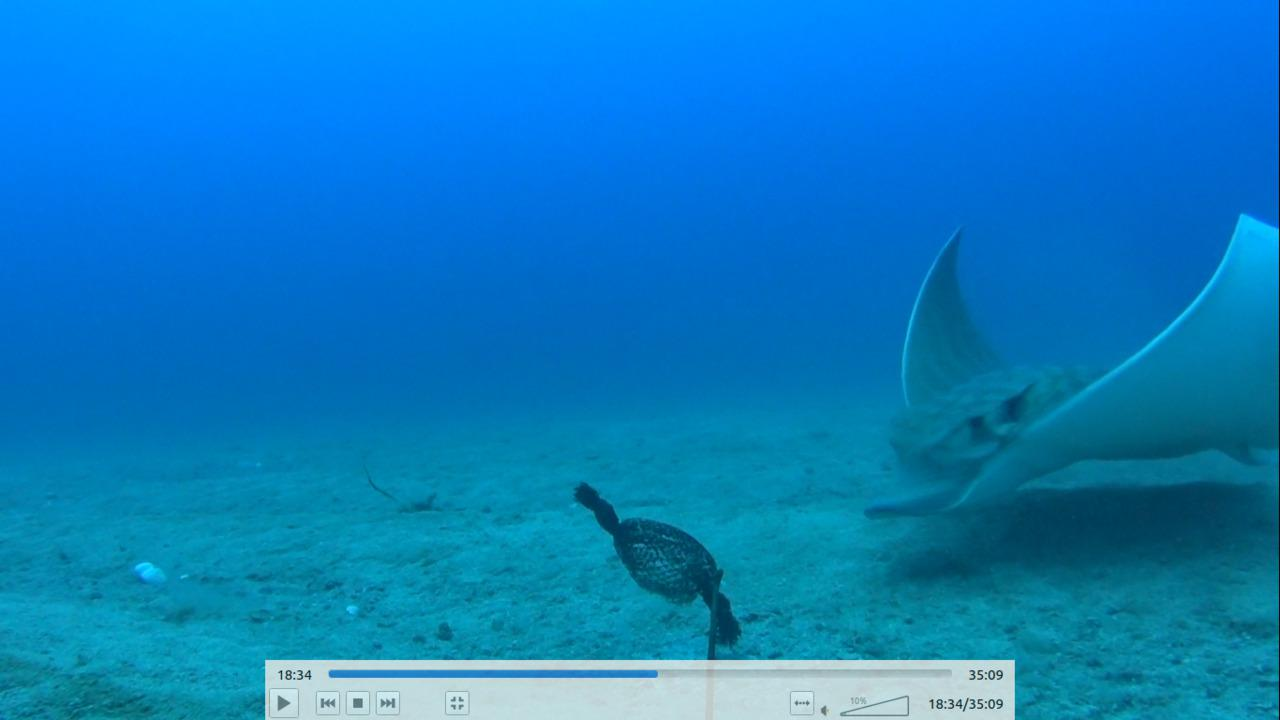myliobatis: (853, 202, 1279, 529)
